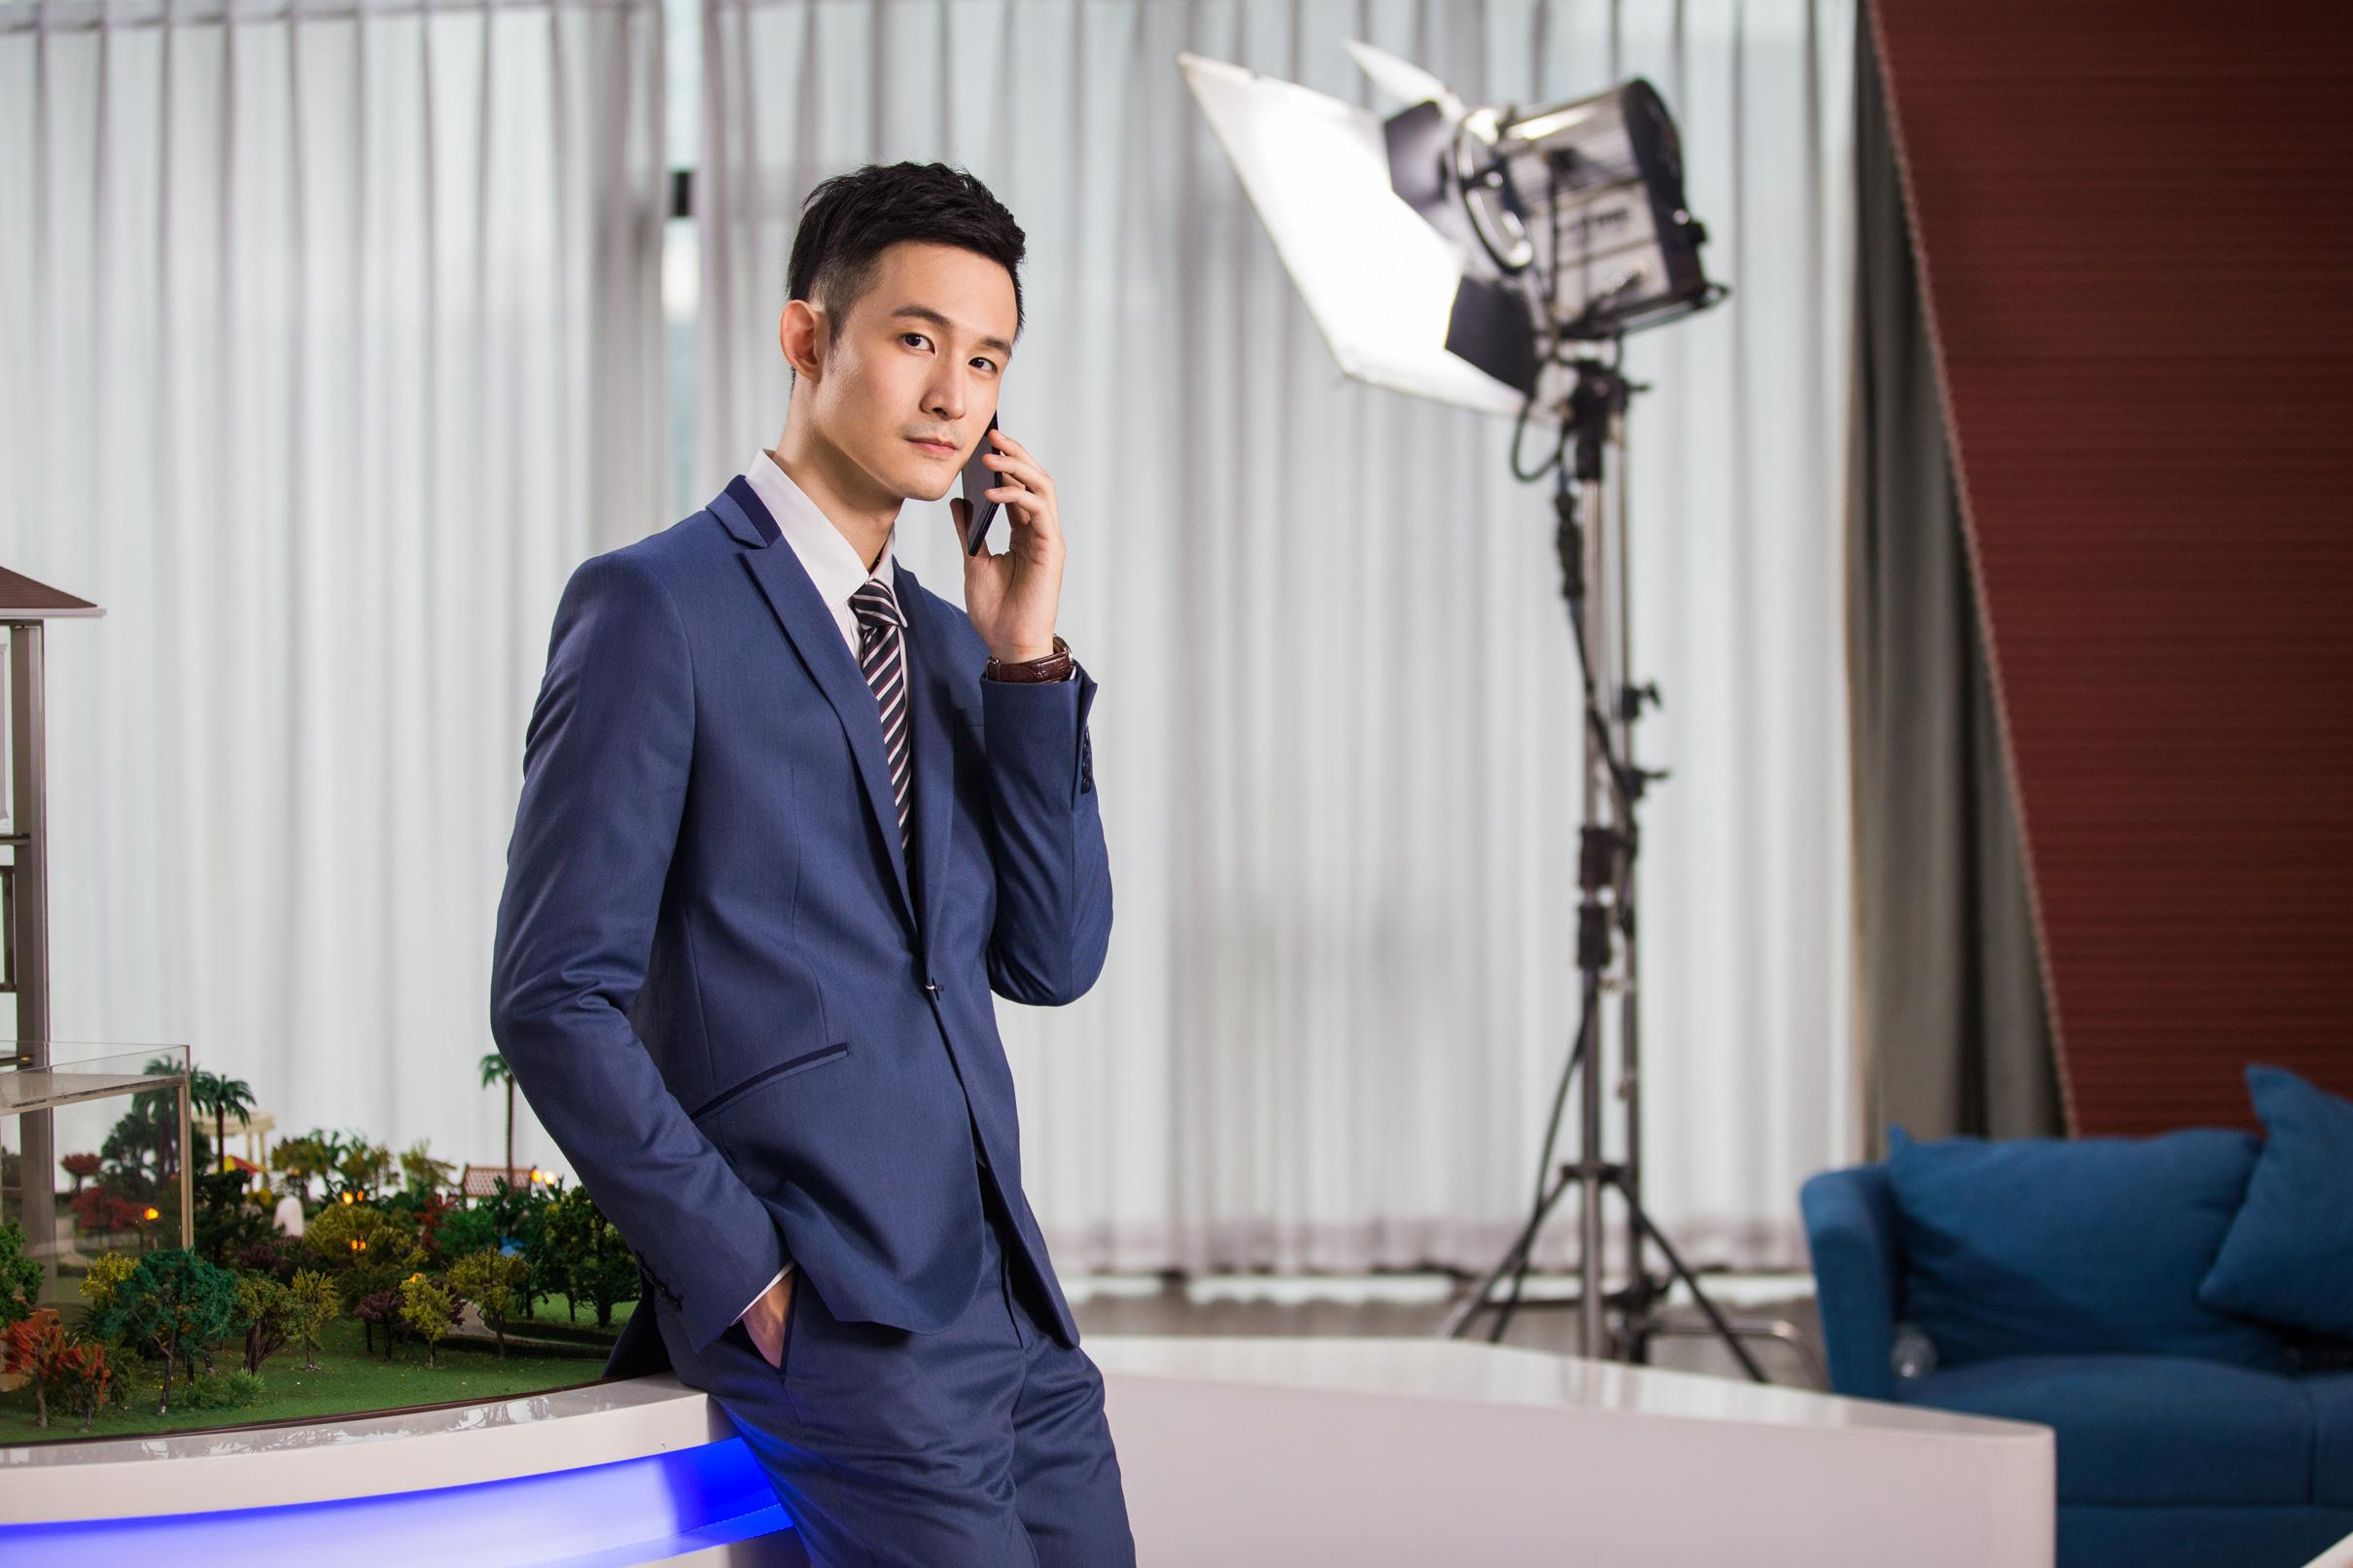calling: (941, 392, 1069, 646)
